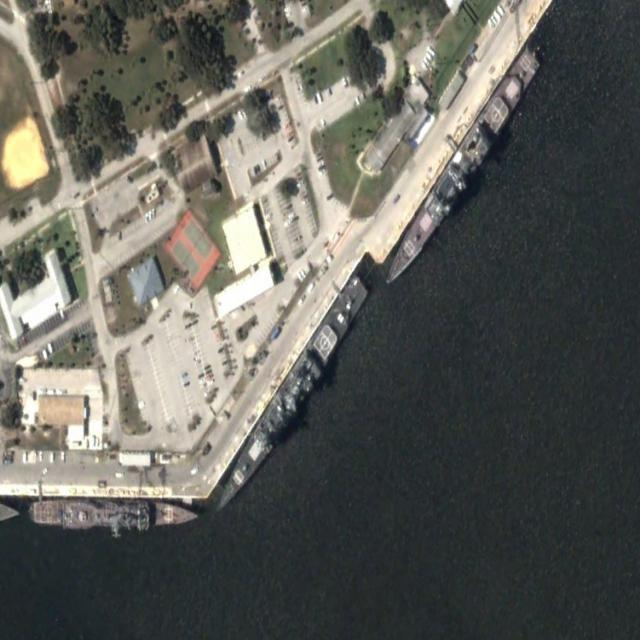Cruiser: (378, 43, 543, 298), (212, 269, 372, 518)
Frigate: (27, 497, 198, 531)
